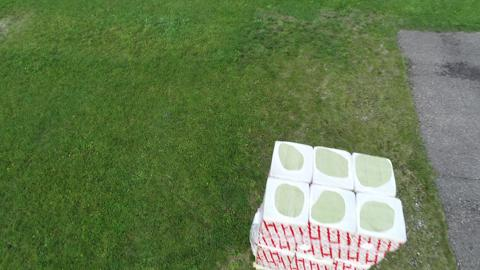RockwoolPallet: (254, 139, 408, 270)
